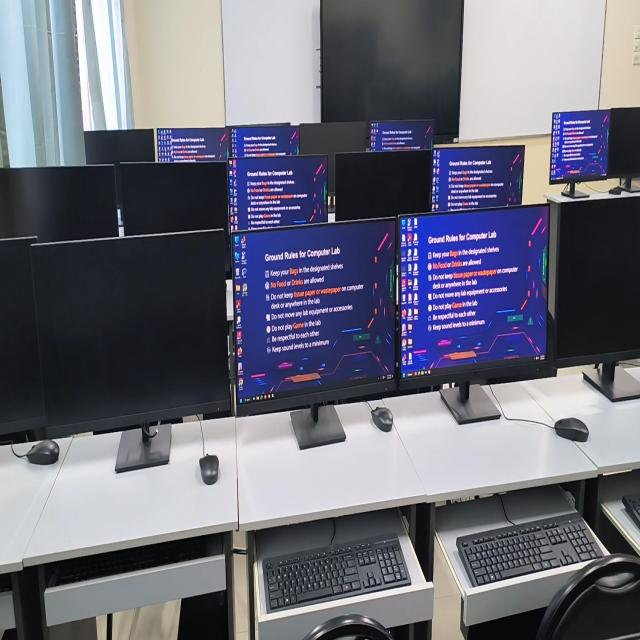Chair: (536, 553, 640, 639), (303, 614, 393, 639)
Digital board: (321, 0, 463, 143)
Keyboard: (263, 536, 409, 612), (456, 511, 603, 585), (622, 495, 640, 528)
Monitor: (30, 231, 229, 437), (234, 220, 395, 404), (398, 206, 548, 377), (548, 194, 640, 366), (0, 166, 118, 242), (0, 237, 44, 435), (119, 162, 228, 235), (228, 155, 327, 231), (335, 151, 432, 221), (431, 146, 525, 211), (299, 121, 368, 194), (550, 110, 610, 183), (84, 129, 155, 165), (157, 128, 228, 162), (608, 107, 640, 178), (229, 126, 299, 158), (370, 120, 434, 152)
Mouse: (554, 418, 589, 441), (27, 440, 59, 465), (199, 454, 219, 485), (371, 407, 393, 431)
